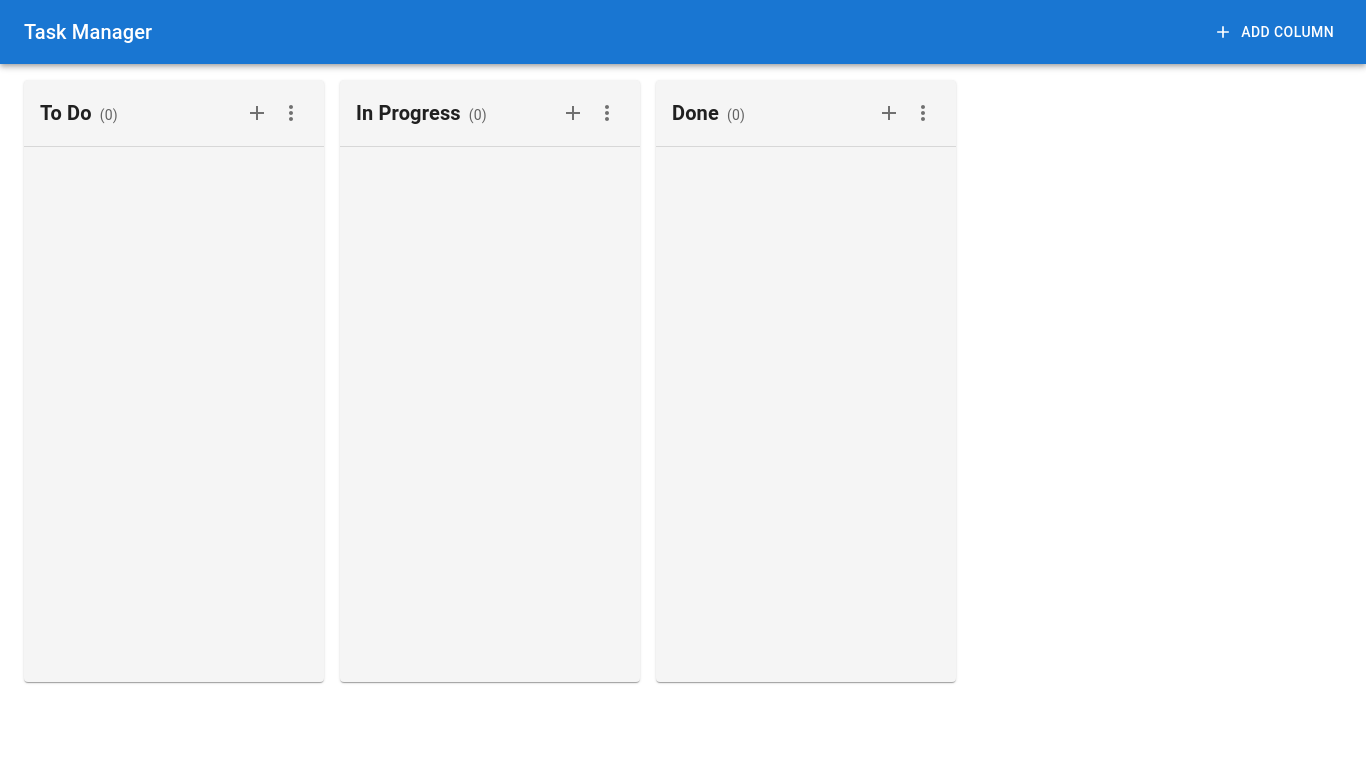
Test case: TaskBoard › should open column dialog when Add Column is clicked
What coordinates should you click on to do the following:
click the button with test id "add-column-btn"
I would click on:
 (1276, 32)
Its box is [1209,14,1342,50].
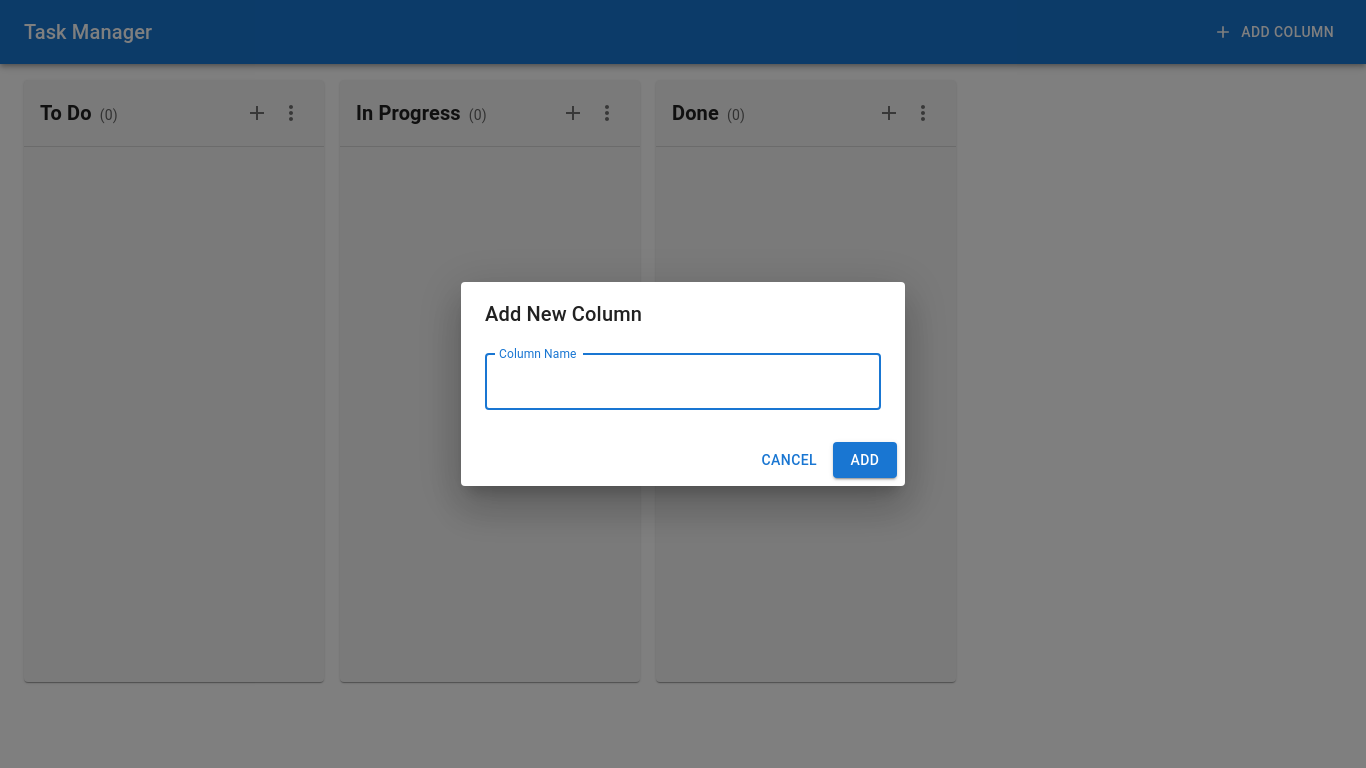
Result: the heading "Add New Column" is shown at [485,302,642,326]
